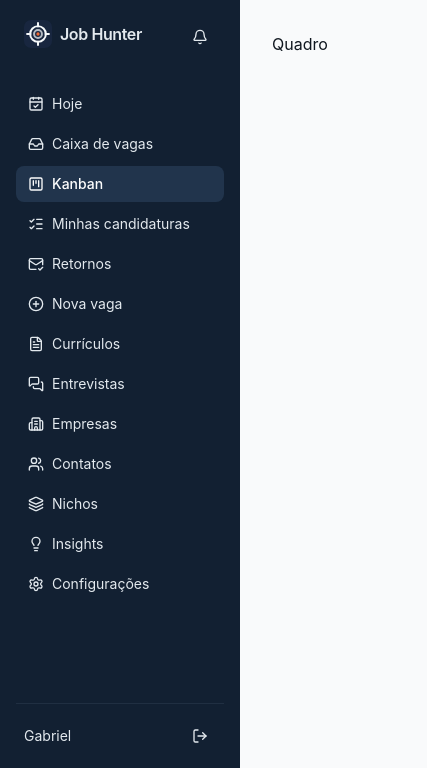
Test: AppLayout › ao trocar de tela pela sidebar, move o foco para a região principal
What coordinates should you click on to do the following:
click the link "Empresas"
I would click on:
 (73, 424)
Its box is [28,415,117,432].
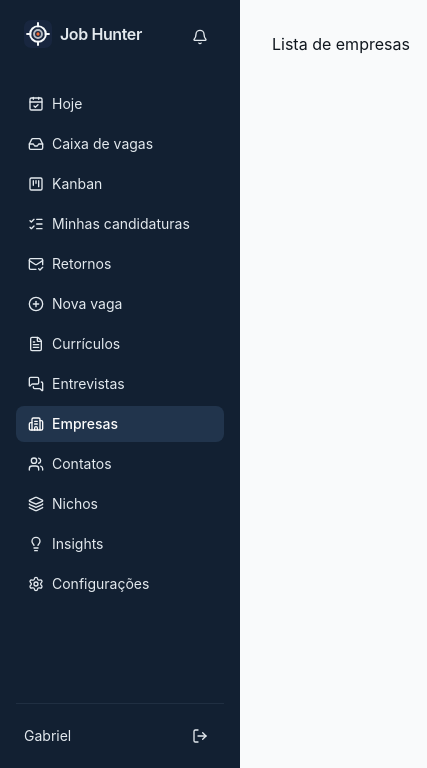
Result: the heading "Lista de empresas" is shown at [272,34,410,54]
